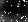person: (16, 5, 23, 18)
